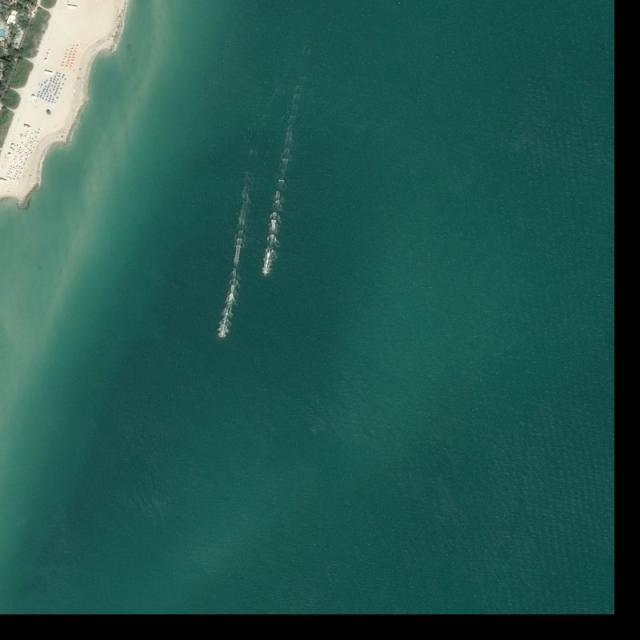ship: (219, 334, 225, 341), (264, 273, 267, 277)
